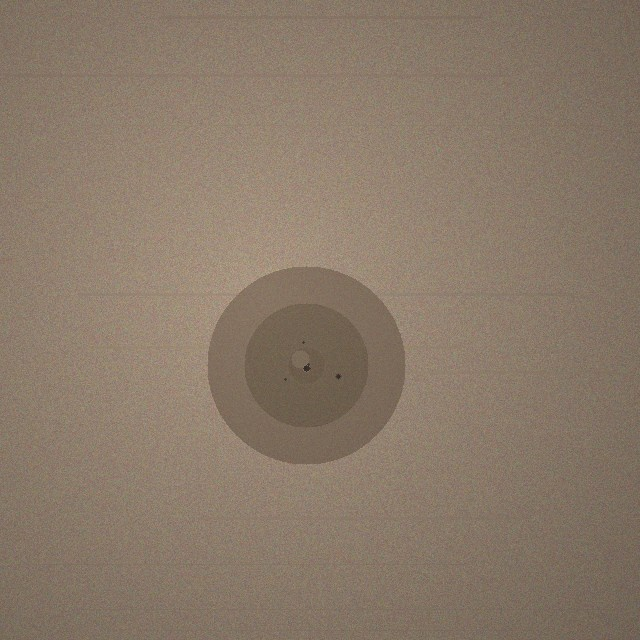shrinkage: (207, 266, 405, 464)
